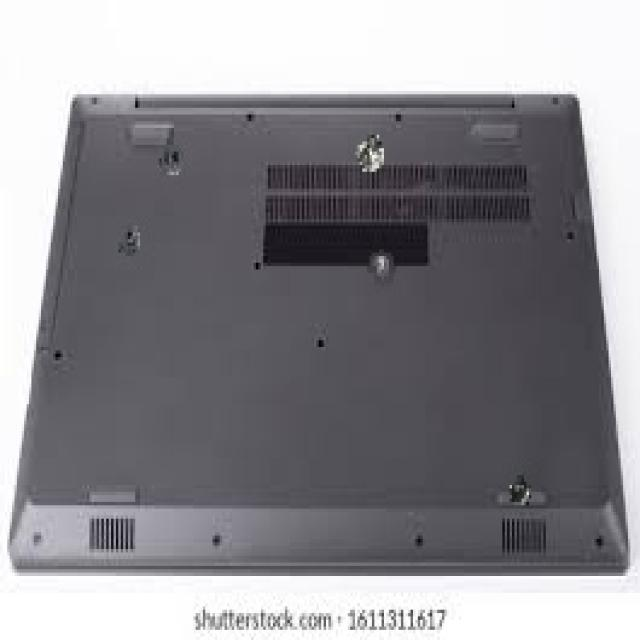lock: (355, 131, 384, 172), (507, 472, 531, 505)
missing_screw: (155, 135, 184, 175), (116, 222, 140, 256), (367, 249, 391, 283)
